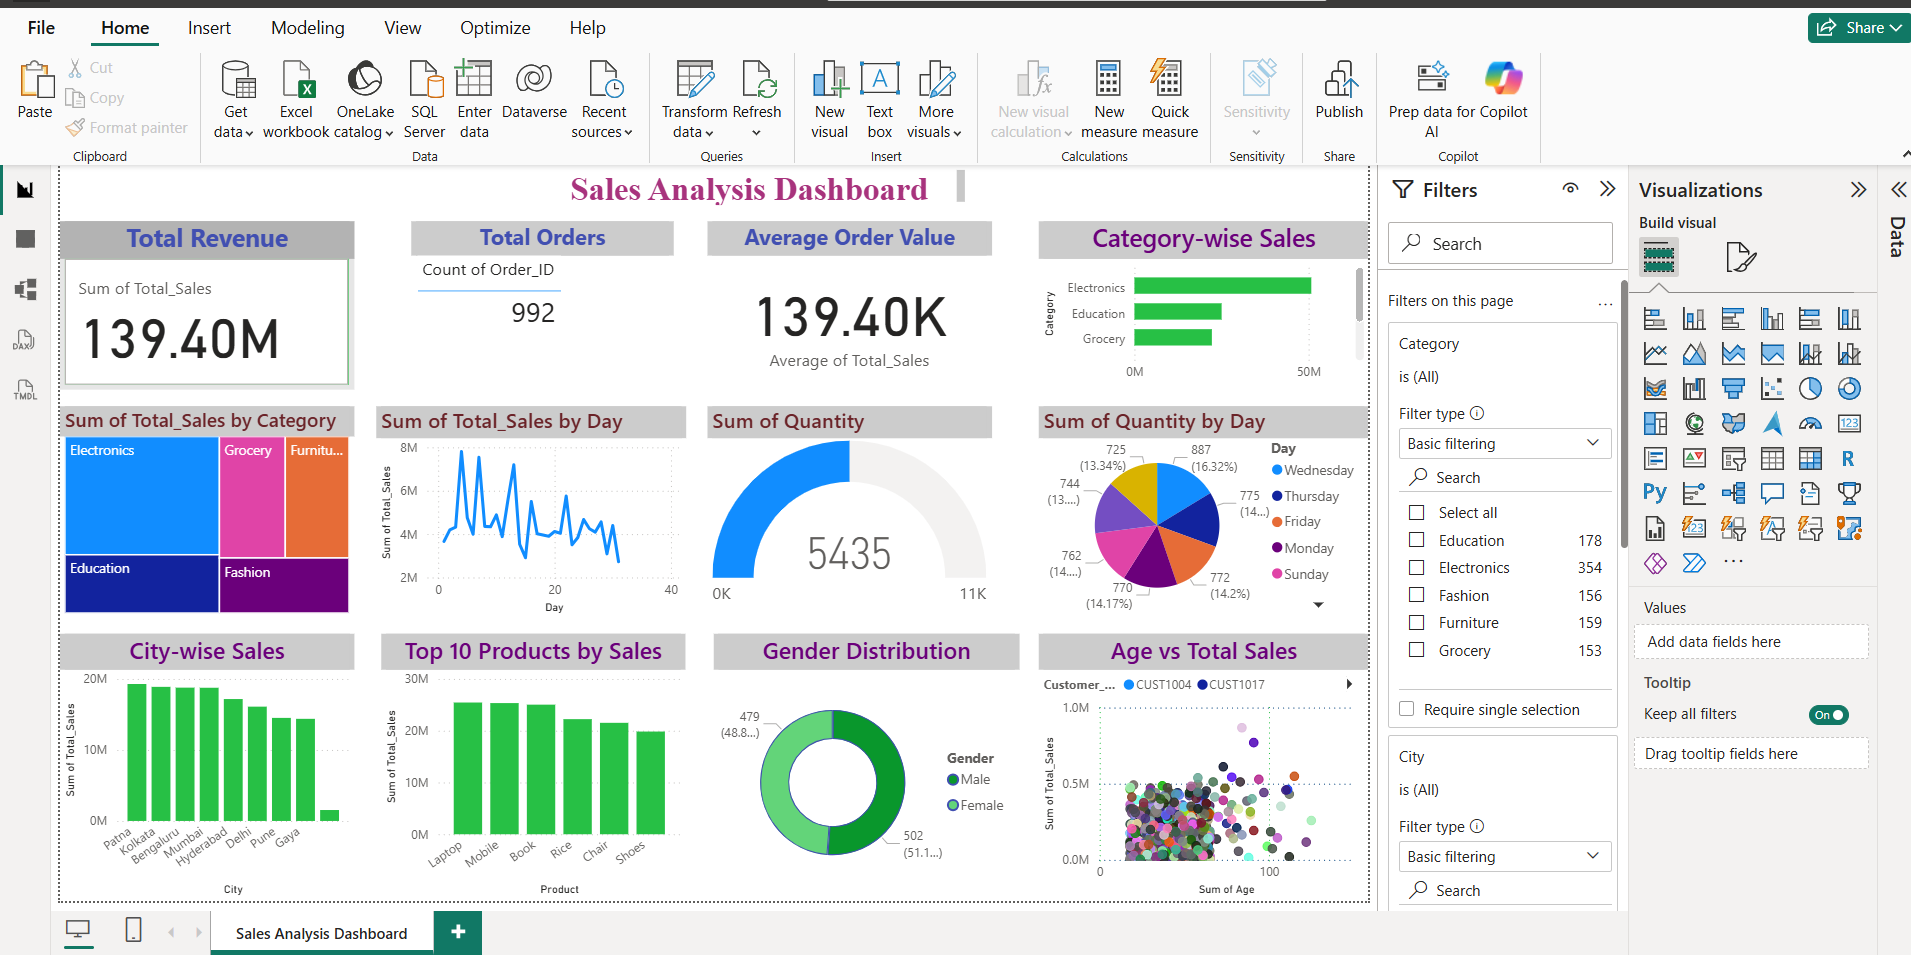

The dashboard page shown, as its layout file describes it:
{"tool":"powerbi","page":{"name":"Sales Analysis Dashboard","canvas":[1280,720],"ordinal":0},"visuals":[{"type":"cardVisual","title":"Total Revenue","fields":{"Data":["Sum(cleaned_dataset.Total_Sales)"]},"box":[0,55.1,288,165.2],"z":0},{"type":"tableEx","title":"Total Orders","fields":{"Values":["cleaned_dataset.Order_ID"]},"box":[343,55.1,256.9,165.2],"z":1000},{"type":"clusteredBarChart","title":"Category-wise Sales","fields":{"Y":["Sum(cleaned_dataset.Total_Sales)"],"Category":["cleaned_dataset.Category"]},"box":[957,55.1,323.2,165.2],"z":2000},{"type":"clusteredColumnChart","title":" City-wise Sales","fields":{"Category":["cleaned_dataset.City"],"Y":["Sum(cleaned_dataset.Total_Sales)"]},"box":[0,458.8,288,261.1],"z":3000},{"type":"columnChart","title":"Top 10 Products by Sales","fields":{"Category":["cleaned_dataset.Product"],"Y":["Sum(cleaned_dataset.Total_Sales)"]},"box":[314.8,458.8,297.8,261.1],"z":4000},{"type":"scatterChart","title":"Age vs Total Sales","fields":{"X":["Sum(cleaned_dataset.Age)"],"Y":["Sum(cleaned_dataset.Total_Sales)"],"Category":["cleaned_dataset.Customer_ID"],"Series":["cleaned_dataset.Customer_ID"]},"box":[957,458.8,323.2,261.1],"z":5000},{"type":"donutChart","title":"Gender Distribution","fields":{"Category":["cleaned_dataset.Gender"],"Y":["Count(cleaned_dataset.Customer_ID)"]},"box":[639.4,458.8,299.3,261.1],"z":6000},{"type":"card","title":"Average Order Value","fields":{"Values":["Avg(cleaned_dataset.Total_Sales)"]},"box":[633.8,55.1,278.1,165.2],"z":7000},{"type":"textbox","box":[494,0,396.2,44],"z":8000},{"type":"lineChart","fields":{"Y":["Sum(cleaned_dataset.Total_Sales)"],"Category":["cleaned_dataset.Order_Date.Variation.Date Hierarchy.Day"]},"box":[309.1,235.7,303.5,207.5],"z":9000},{"type":"treemap","fields":{"Values":["Sum(cleaned_dataset.Total_Sales)"],"Group":["cleaned_dataset.Category"]},"box":[0,235.7,288,207.5],"z":10000},{"type":"gauge","fields":{"Y":["Sum(cleaned_dataset.Quantity)"]},"box":[634,236,278,207],"z":11000},{"type":"pieChart","fields":{"Category":["cleaned_dataset.Day"],"Y":["Sum(cleaned_dataset.Quantity)"]},"box":[957,236,323,207],"z":11001}]}

Visuals, with their boxes on the page's 1280x720 design canvas (x1, y1, x2, y2). These are canvas units, not pixel positions in the 1911x955 screenshot, which may show the page scaled, cropped or inside an application window:
"Total Revenue" cardVisual: <bbox>0, 55, 288, 220</bbox>
"Total Orders" tableEx: <bbox>343, 55, 600, 220</bbox>
"Category-wise Sales" clusteredBarChart: <bbox>957, 55, 1280, 220</bbox>
" City-wise Sales" clusteredColumnChart: <bbox>0, 459, 288, 720</bbox>
"Top 10 Products by Sales" columnChart: <bbox>315, 459, 613, 720</bbox>
"Age vs Total Sales" scatterChart: <bbox>957, 459, 1280, 720</bbox>
"Gender Distribution" donutChart: <bbox>639, 459, 939, 720</bbox>
"Average Order Value" card: <bbox>634, 55, 912, 220</bbox>
textbox: <bbox>494, 0, 890, 44</bbox>
lineChart - Sum(cleaned_dataset.Total_Sales) x cleaned_dataset.Order_Date.Variation.Date Hierarchy.Day: <bbox>309, 236, 613, 443</bbox>
treemap - Sum(cleaned_dataset.Total_Sales) x cleaned_dataset.Category: <bbox>0, 236, 288, 443</bbox>
gauge - Sum(cleaned_dataset.Quantity): <bbox>634, 236, 912, 443</bbox>
pieChart - cleaned_dataset.Day x Sum(cleaned_dataset.Quantity): <bbox>957, 236, 1280, 443</bbox>
